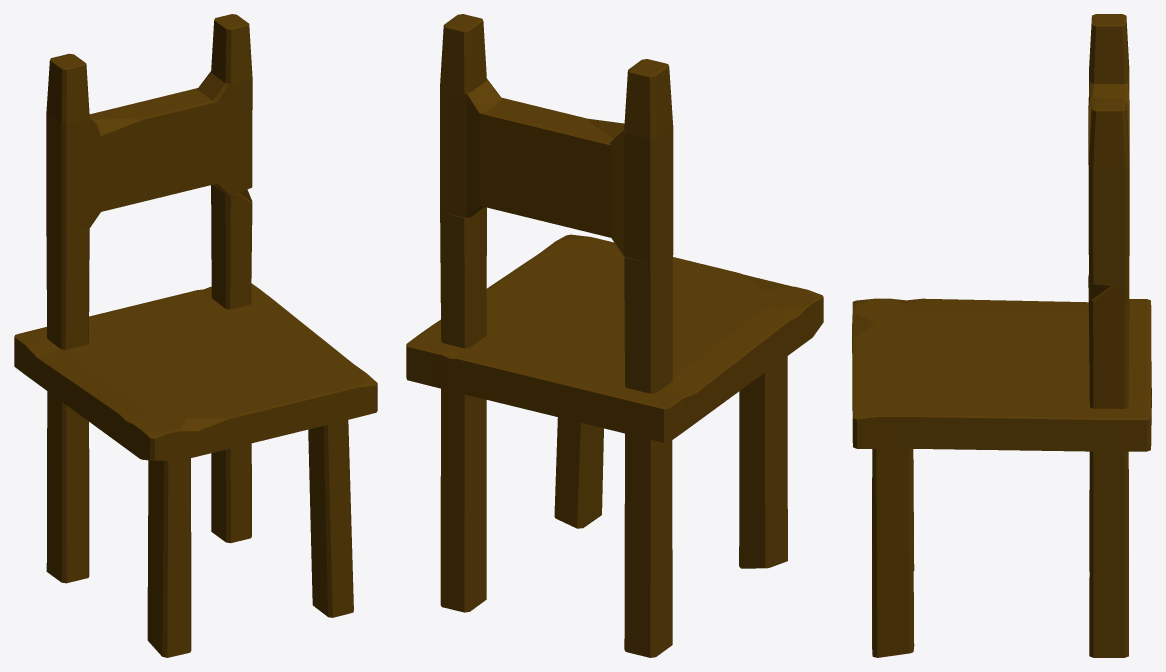
File: chair.fbx
3 views of the same model, side by side, from view 1: azimuth 30°, elevation 25°; view 2: azimuth 150°, elevation 25°; view 3: azimuth 270°, elevation 25° (orthographic). The views are drawn at different scales.
Visible parts, largest first — view 1: Wooden _Chair; view 2: Wooden _Chair; view 3: Wooden _Chair.
Part boxes in pixels (left/top/right/bottom): Wooden _Chair: left=14, top=14, right=377, bottom=657; Wooden _Chair: left=406, top=14, right=823, bottom=657; Wooden _Chair: left=852, top=14, right=1151, bottom=657.
Bounding box in the file's own units: 80.89 × 170 × 84.31.
